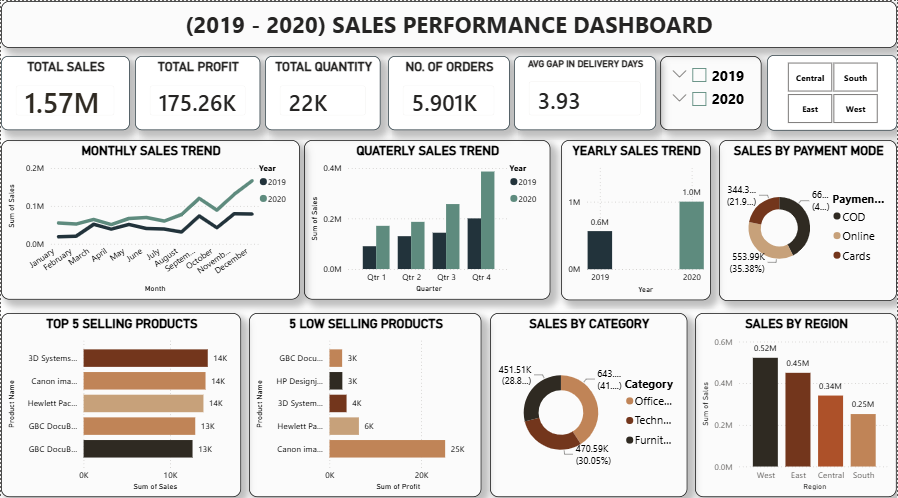

This screenshot's page, from the dashboard's own definition file:
{"tool":"powerbi","page":{"name":"Page 1","canvas":[1280,720],"ordinal":0},"visuals":[{"type":"lineChart","title":"MONTHLY SALES TREND","fields":{"Category":["Sheet1.Order Date.Variation.Date Hierarchy.Month"],"Y":["Sum(Sheet1.Sales)"],"Series":["Sheet1.Order Date.Variation.Date Hierarchy.Year"]},"box":[0,198.3,426.7,228.3],"z":0},{"type":"clusteredColumnChart","title":"QUATERLY SALES TREND","fields":{"Category":["Sheet1.Order Date.Variation.Date Hierarchy.Quarter"],"Y":["Sum(Sheet1.Sales)"],"Series":["Sheet1.Order Date.Variation.Date Hierarchy.Year"]},"box":[433.3,198.3,351.7,228.3],"z":1000},{"type":"clusteredColumnChart","title":"YEARLY SALES TREND","fields":{"Category":["Sheet1.Order Date.Variation.Date Hierarchy.Year"],"Y":["Sum(Sheet1.Sales)"]},"box":[800,198.6,214.3,228.6],"z":2000},{"type":"barChart","title":"TOP 5 SELLING PRODUCTS","fields":{"Category":["Sheet1.Product Name"],"Y":["Sum(Sheet1.Sales)"]},"box":[0,445,343.3,263.3],"z":3000},{"type":"barChart","title":"5 LOW SELLING PRODUCTS","fields":{"Category":["Sheet1.Product Name"],"Y":["Sum(Sheet1.Profit)"]},"box":[355,445,331.7,263.3],"z":4000},{"type":"textbox","box":[0,0,1280,67.1],"z":5000},{"type":"cardVisual","title":"TOTAL SALES","fields":{"Data":["Sum(Sheet1.Sales)"]},"box":[0,79.1,183.6,106.4],"z":6000},{"type":"cardVisual","title":"TOTAL PROFIT","fields":{"Data":["Sum(Sheet1.Profit)"]},"box":[190.9,79.1,179.1,106.4],"z":7000},{"type":"cardVisual","title":"TOTAL QUANTITY","fields":{"Data":["Sum(Sheet1.Quantity)"]},"box":[377.3,79.1,165.5,106.4],"z":8000},{"type":"donutChart","title":"SALES BY CATEGORY","fields":{"Category":["Sheet1.Category"],"Y":["Sum(Sheet1.Sales)"]},"box":[698.3,445,281.7,263.3],"z":9000},{"type":"columnChart","title":"SALES BY REGION","fields":{"Category":["Sheet1.Region"],"Y":["Sum(Sheet1.Sales)"]},"box":[991.7,445,288.3,263.3],"z":10000},{"type":"slicer","fields":{"Values":["Sheet1.Order Date.Variation.Date Hierarchy.Year","Sheet1.Order Date.Variation.Date Hierarchy.Quarter","Sheet1.Order Date.Variation.Date Hierarchy.Month","Sheet1.Order Date.Variation.Date Hierarchy.Day"]},"box":[941.8,78.2,144.5,106.4],"z":11000},{"type":"slicer","fields":{"Values":["Sheet1.Region"]},"box":[1093.6,77.3,186.4,108.2],"z":12000},{"type":"donutChart","title":"SALES BY PAYMENT MODE","fields":{"Category":["Sheet1.Payment Mode"],"Y":["Sum(Sheet1.Sales)"]},"box":[1025.7,198.6,254.3,230],"z":13000},{"type":"cardVisual","title":"NO. OF ORDERS","fields":{"Data":["CountNonNull(Sheet1.Order ID)"]},"box":[552.7,79.1,173.6,106.4],"z":14000},{"type":"cardVisual","title":"AVG GAP IN DELIVERY DAYS","fields":{"Data":["Avg(Sheet1.AVG DELIVERY)"]},"box":[732.7,79.1,202.7,106.4],"z":14001}]}

Visuals, with their boxes in screenshot pixels (x1, y1, x2, y2), scaled from the page's 1280x720 canvas onto the 898x498 screenshot:
"MONTHLY SALES TREND" lineChart: 0, 137, 299, 295
"QUATERLY SALES TREND" clusteredColumnChart: 304, 137, 551, 295
"YEARLY SALES TREND" clusteredColumnChart: 561, 137, 712, 295
"TOP 5 SELLING PRODUCTS" barChart: 0, 308, 241, 490
"5 LOW SELLING PRODUCTS" barChart: 249, 308, 482, 490
textbox: 0, 0, 897, 46
"TOTAL SALES" cardVisual: 0, 55, 129, 128
"TOTAL PROFIT" cardVisual: 134, 55, 260, 128
"TOTAL QUANTITY" cardVisual: 265, 55, 381, 128
"SALES BY CATEGORY" donutChart: 490, 308, 688, 490
"SALES BY REGION" columnChart: 696, 308, 897, 490
slicer - Sheet1.Order Date.Variation.Date Hierarchy.Year x Sheet1.Order Date.Variation.Date Hierarchy.Quarter: 661, 54, 762, 128
slicer - Sheet1.Region: 767, 53, 897, 128
"SALES BY PAYMENT MODE" donutChart: 720, 137, 897, 296
"NO. OF ORDERS" cardVisual: 388, 55, 510, 128
"AVG GAP IN DELIVERY DAYS" cardVisual: 514, 55, 656, 128
